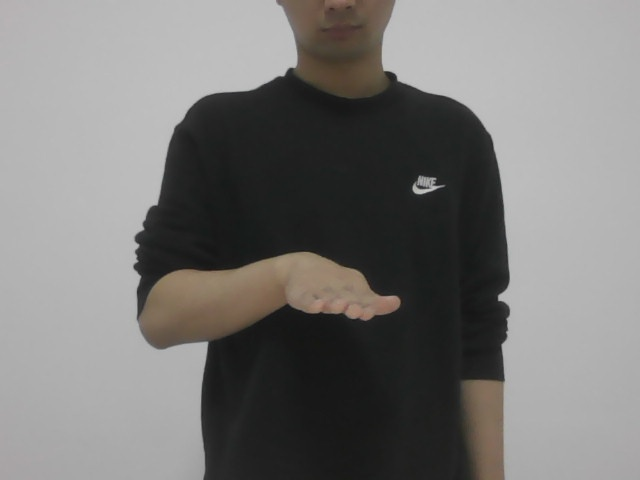slow: (279, 242, 408, 330)
